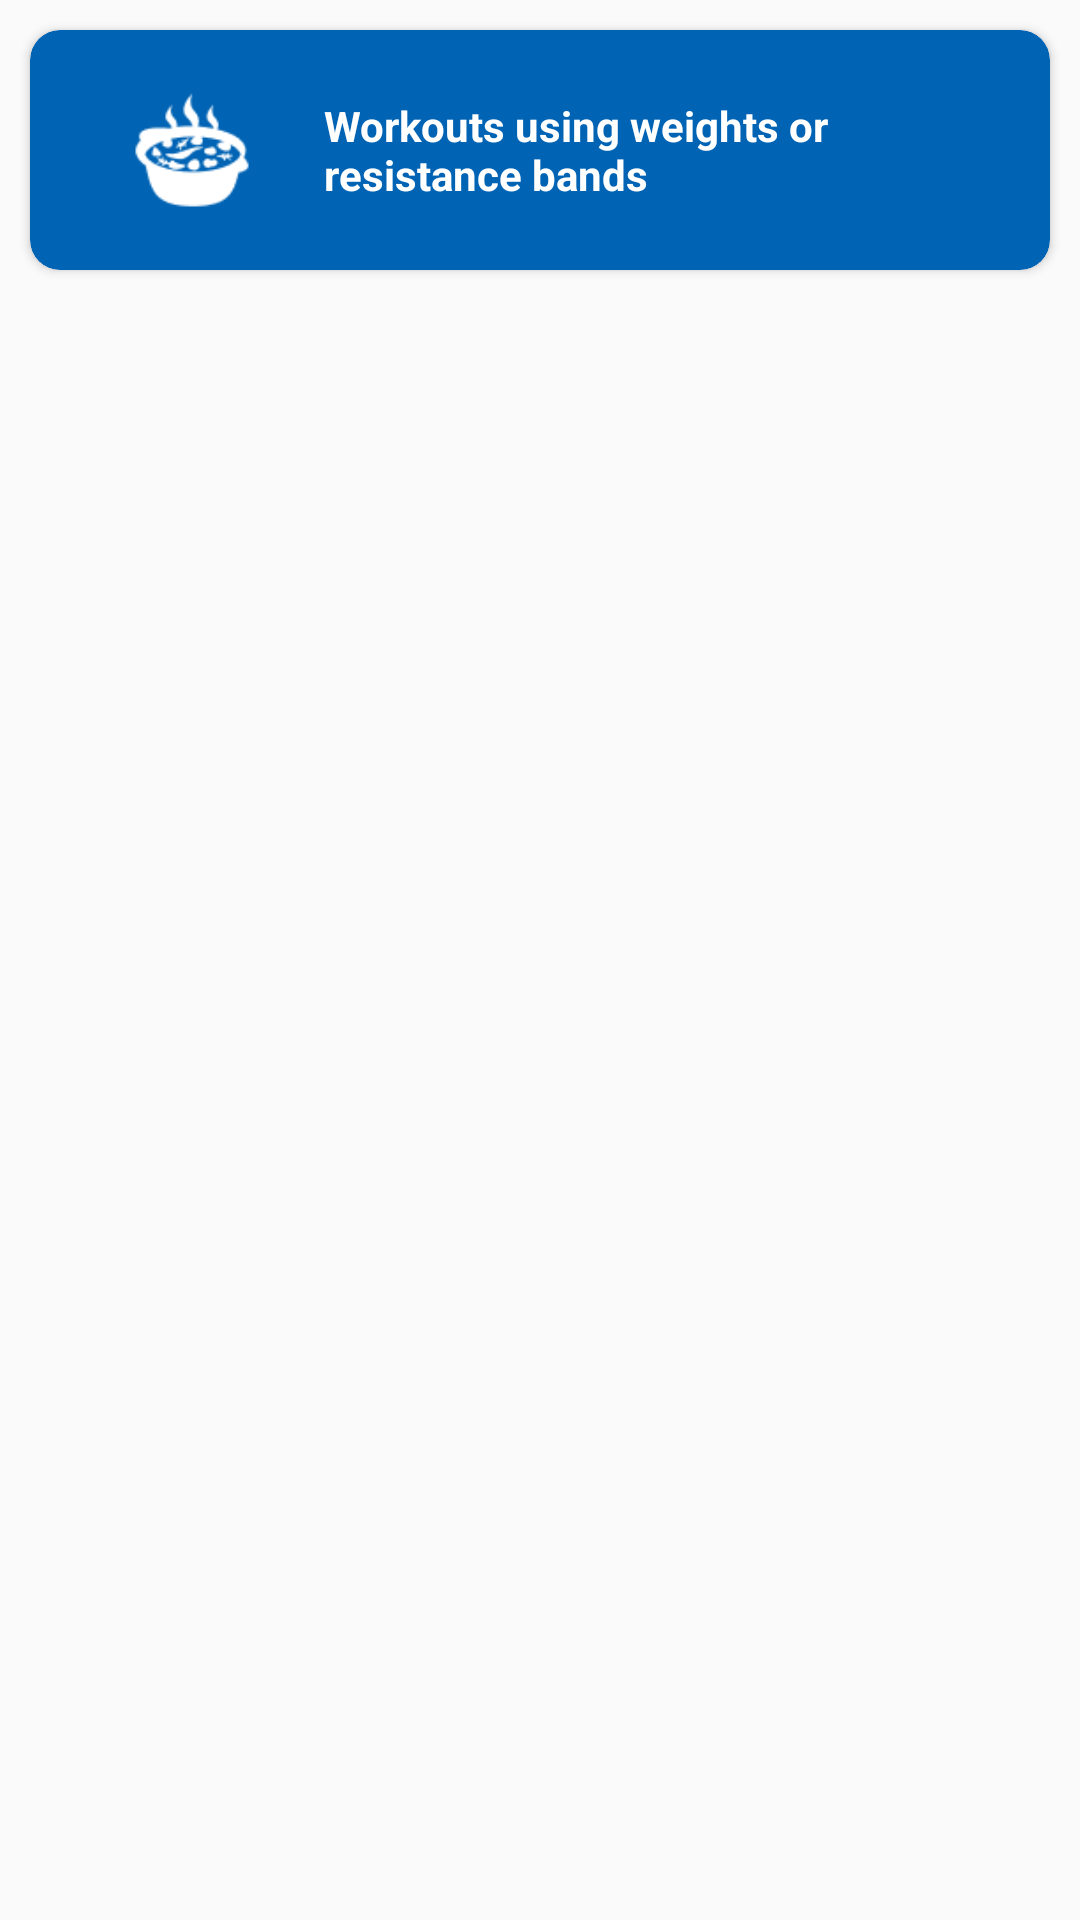

Screen size 1080w x 1920h. Icon name, then its center in pixels as point (x, y):
diet: point (192, 150)
